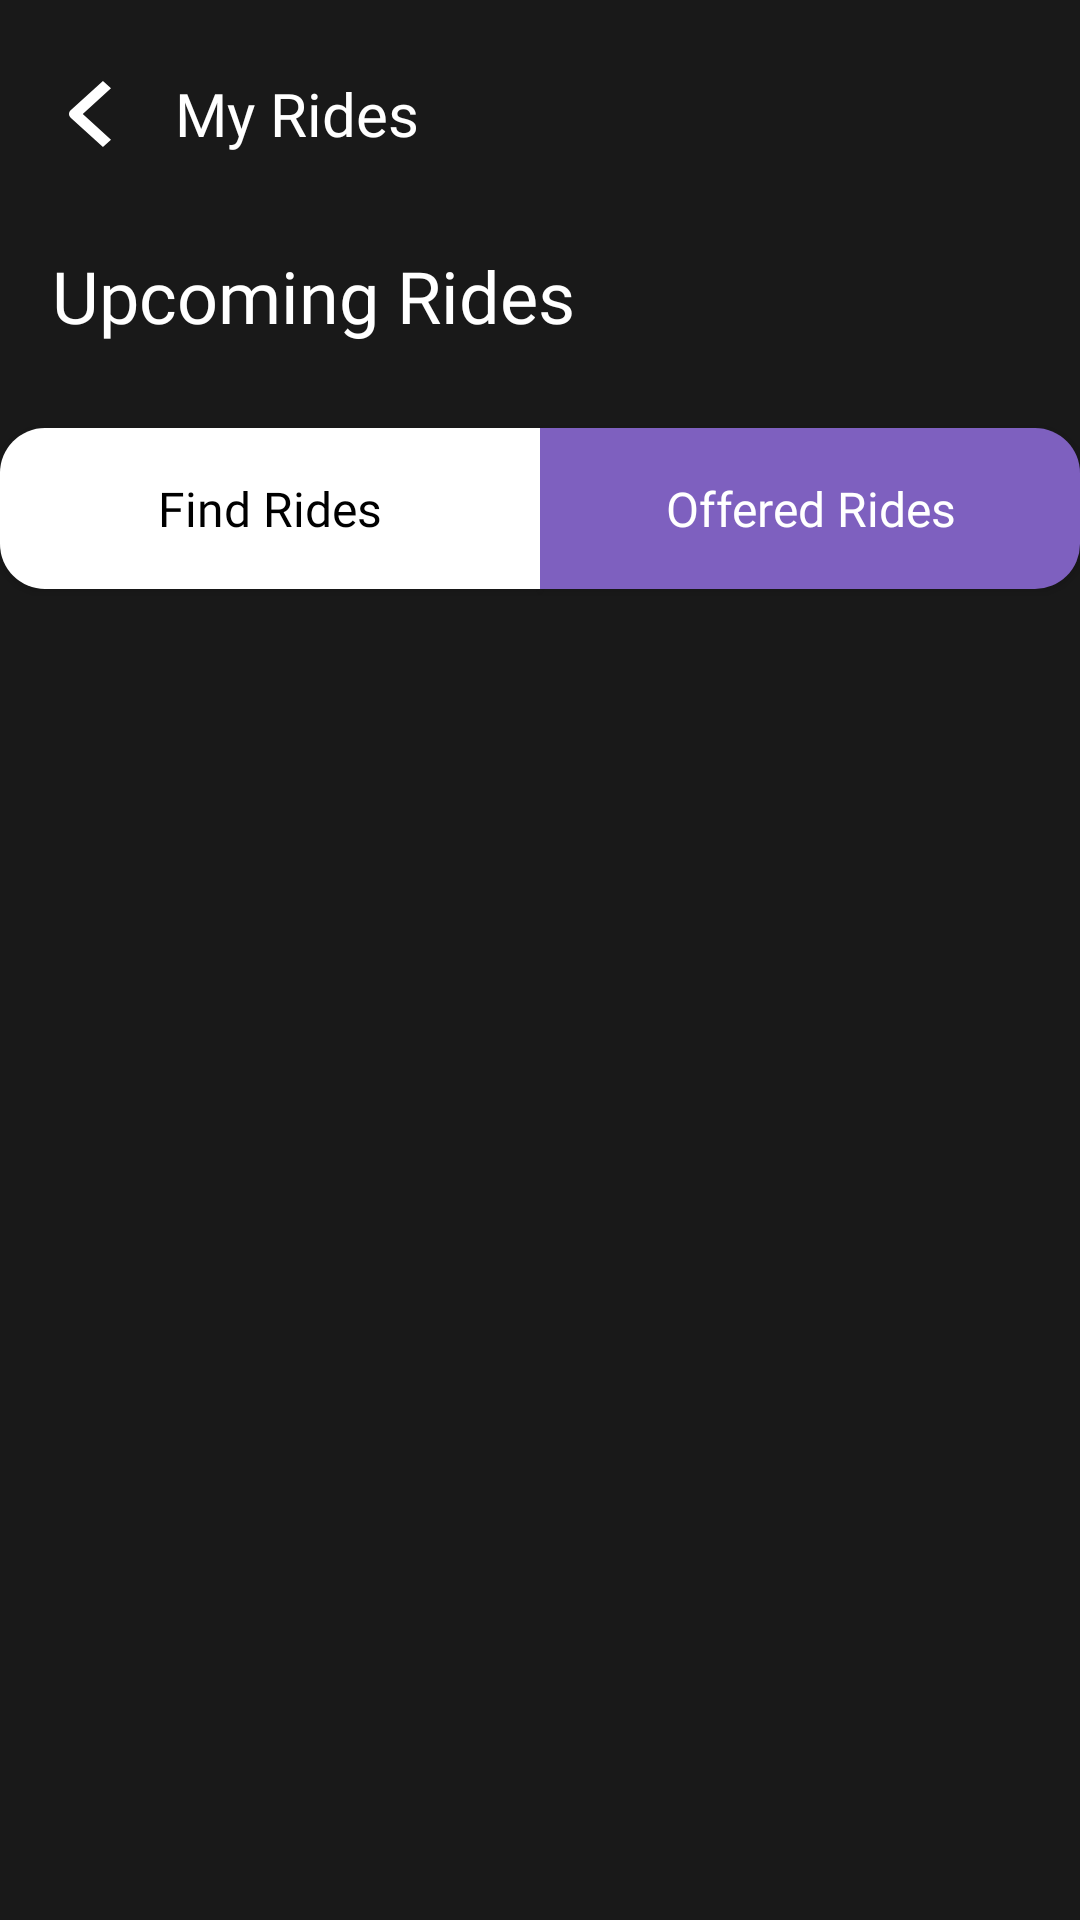

Screen size 1080*1920. Icon name, then its center in pixels as (x,y):
Back button: (90,114)
